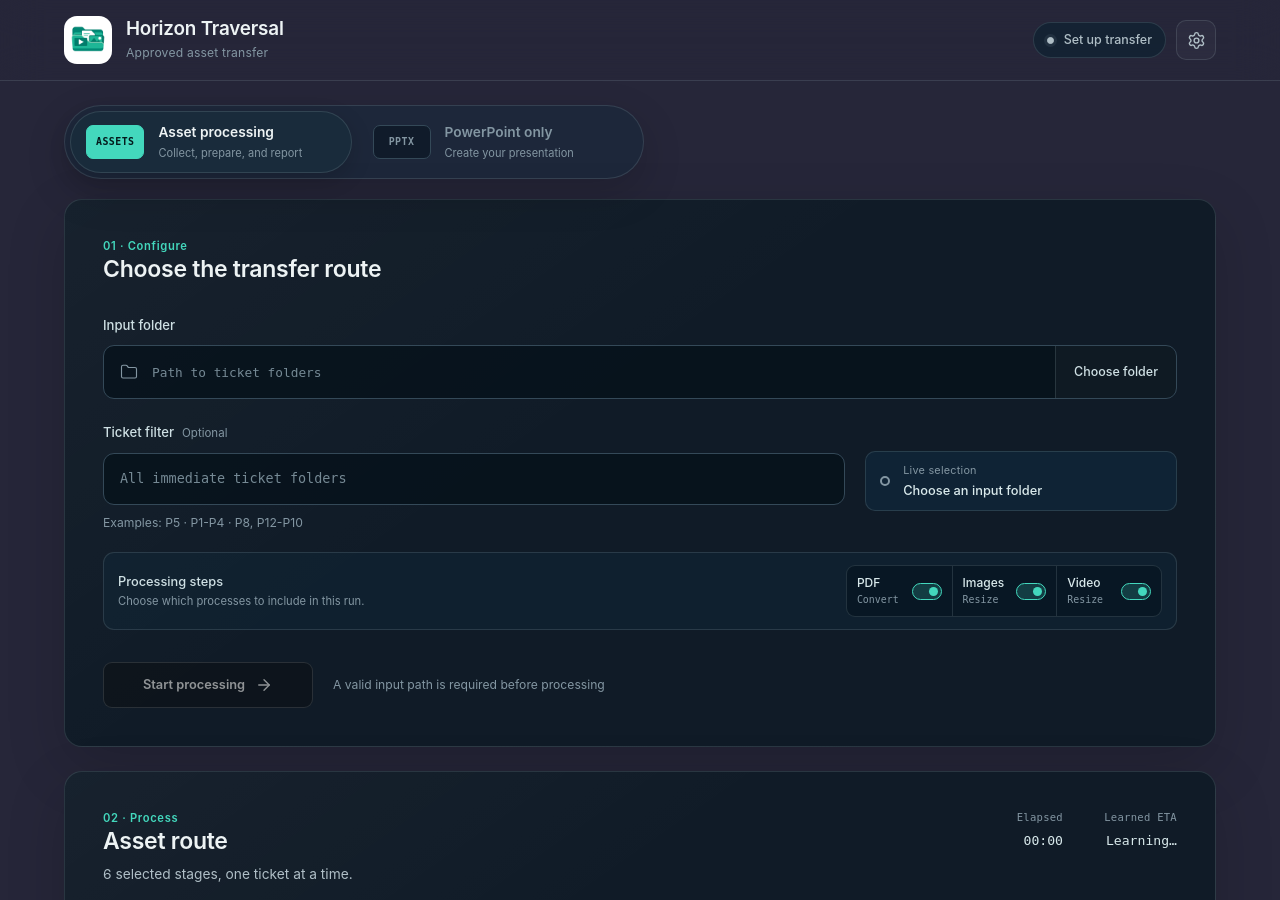
Horizon Traversal workbench › keeps unreached stages pending when a ticket fails during discovery
Type "/tickets" into the field labelled "Input folder" at (596, 372), box [138,348,1055,397]
Wait 360 ms
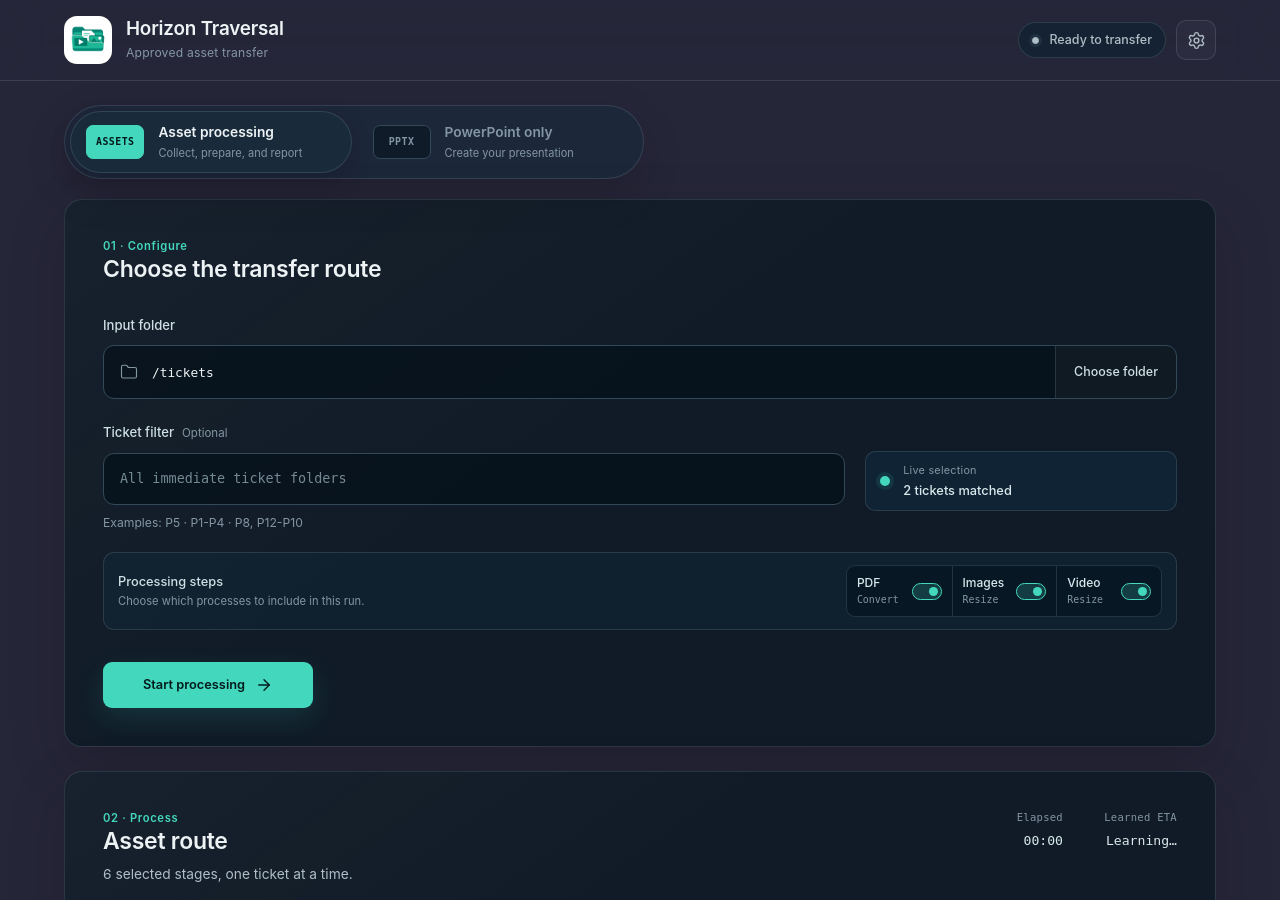
Click the button "Start processing" at (208, 685), box [103,662,313,708]
(page scrolled)
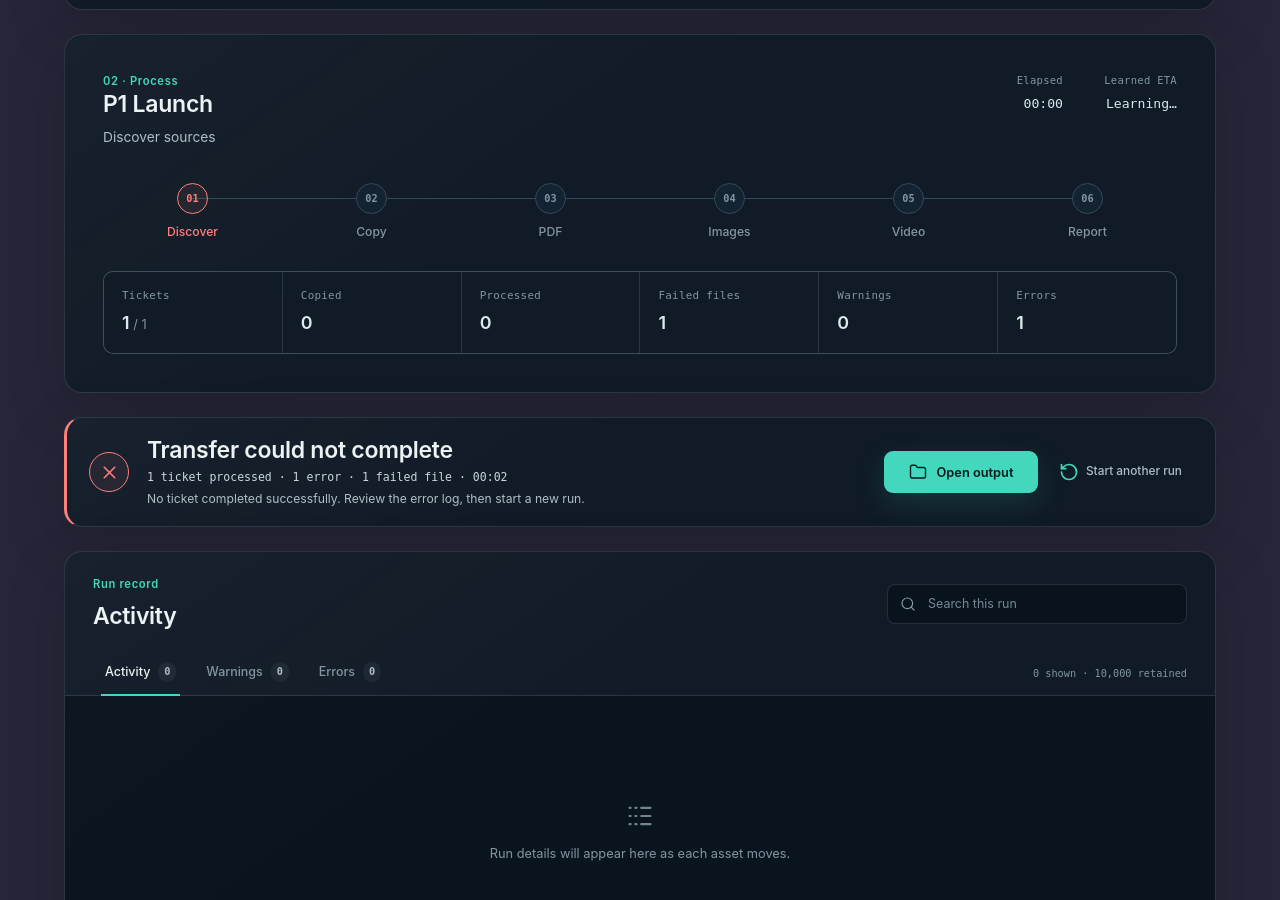
Expected: the heading "Transfer could not complete" is shown, [147,436,453,464]
